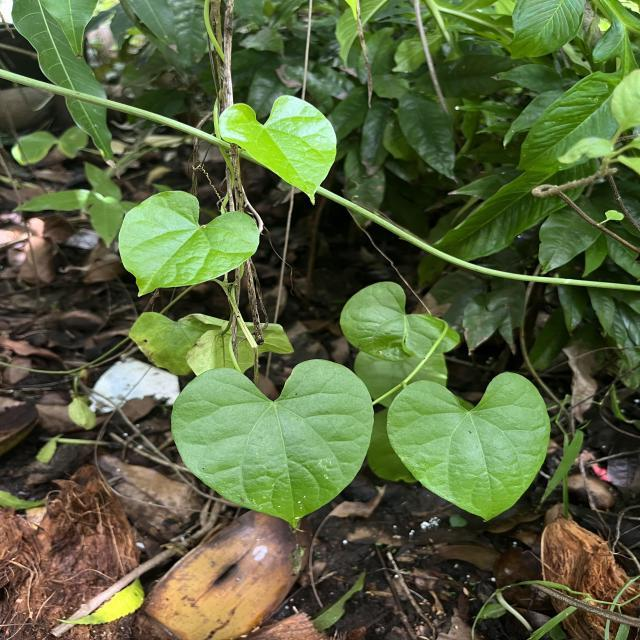Tinospora cordifolia: (168, 356, 378, 532), (384, 368, 554, 524), (115, 186, 263, 300), (215, 92, 339, 208)
